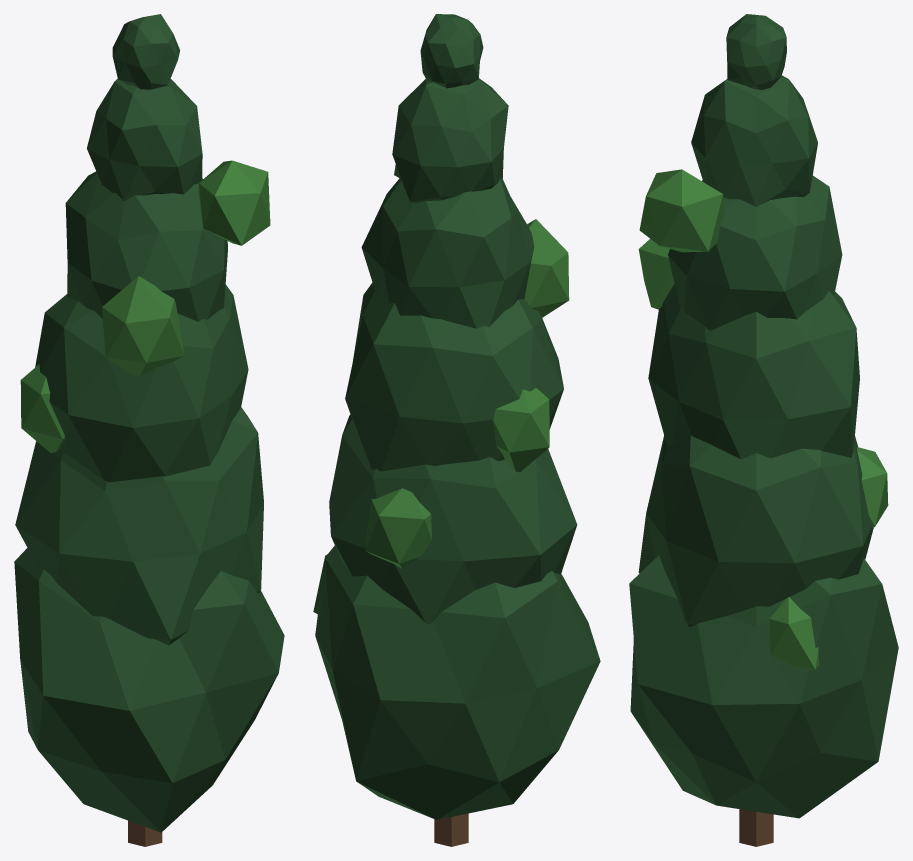
Rendered from cipreste.glb.
3 renders of one model, left to right at view 1: azimuth 30°, elevation 25°; view 2: azimuth 150°, elevation 25°; view 3: azimuth 270°, elevation 25°, orthographic.
Visible parts, largest first — view 1: cipreste; view 2: cipreste; view 3: cipreste.
Part boxes in pixels (x1,y1,x2,y2): cipreste: [14, 14, 284, 846]; cipreste: [313, 14, 600, 846]; cipreste: [629, 14, 898, 846].
Bounding box in the file's own units: 1.13 × 3.66 × 1.09.
